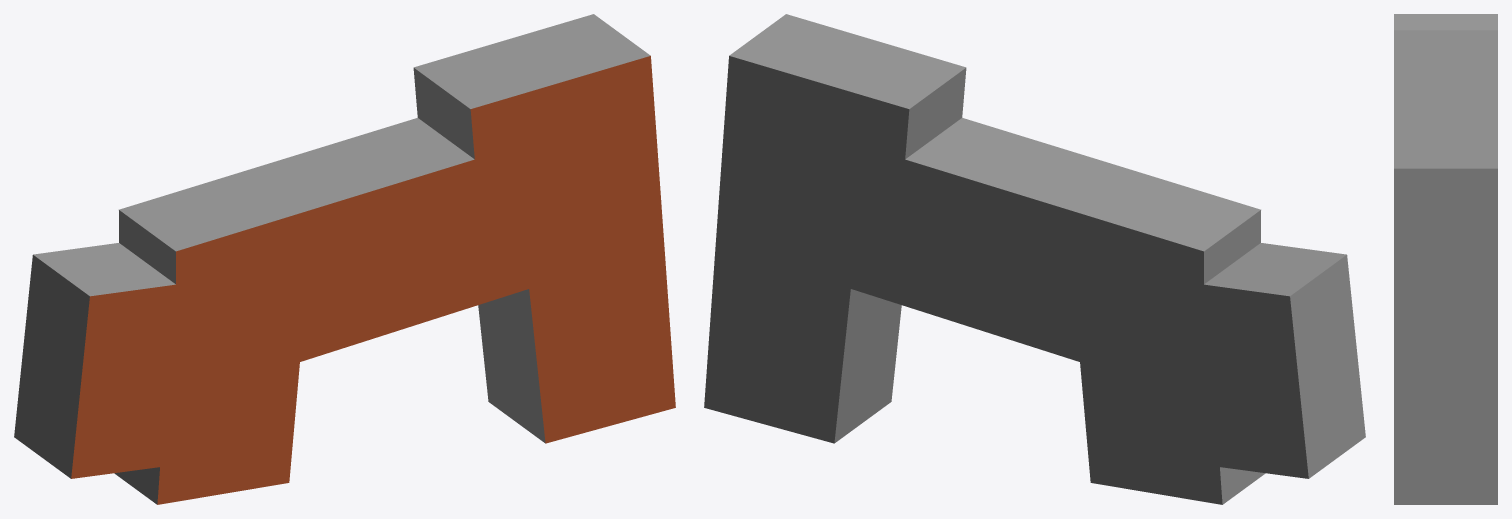
Rendered from construction_6603_assumed_A_Casa_h6m.obj.
The picture shows the model from 3 angles, left to right: view 1: azimuth 30°, elevation 25°; view 2: azimuth 150°, elevation 25°; view 3: azimuth 270°, elevation 25°; orthographic projection. The views are drawn at different scales.
Parts seen in each view (by area): view 1: construction_6603_assumed_A_Casa; view 2: construction_6603_assumed_A_Casa; view 3: construction_6603_assumed_A_Casa.
Part boxes in pixels (<box>): construction_6603_assumed_A_Casa: <box>14,14,675,504</box>; construction_6603_assumed_A_Casa: <box>704,14,1365,504</box>; construction_6603_assumed_A_Casa: <box>1394,14,1497,504</box>.
Bounding box in the file's own units: 36.69 × 21 × 6.
